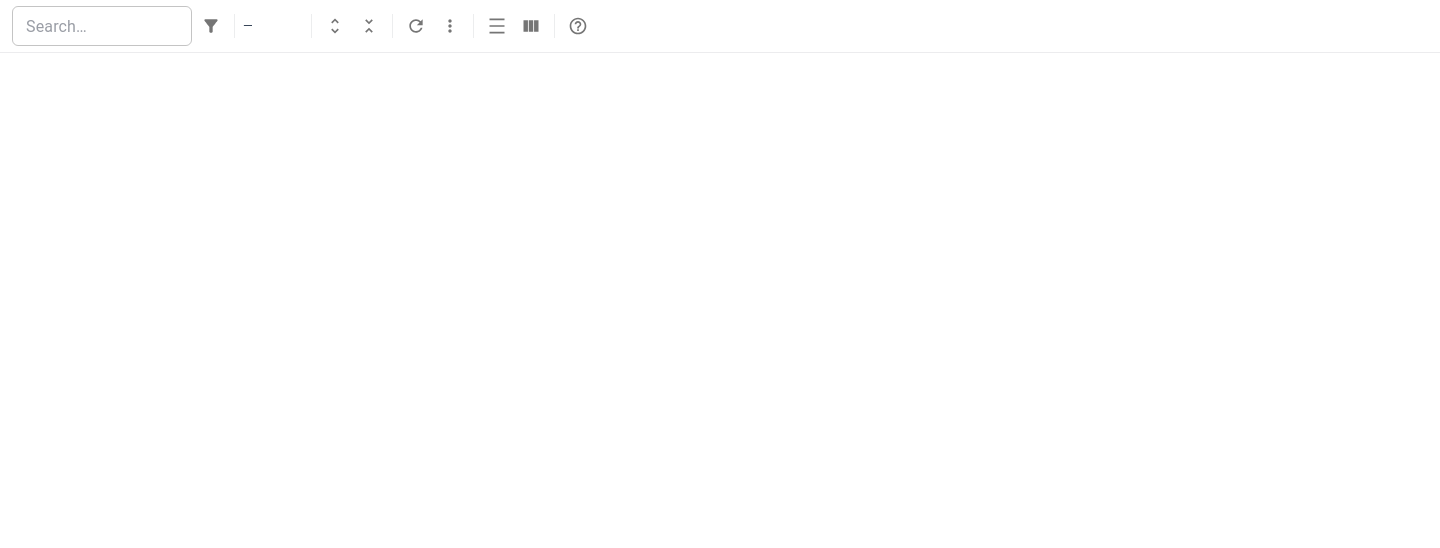
it: HierarchyToolbar — Columns menu (dynamic query columns) › passes current hierarchy facets into the legend
Click the button named "legend".
click(578, 26)  # box [563, 11, 593, 41]
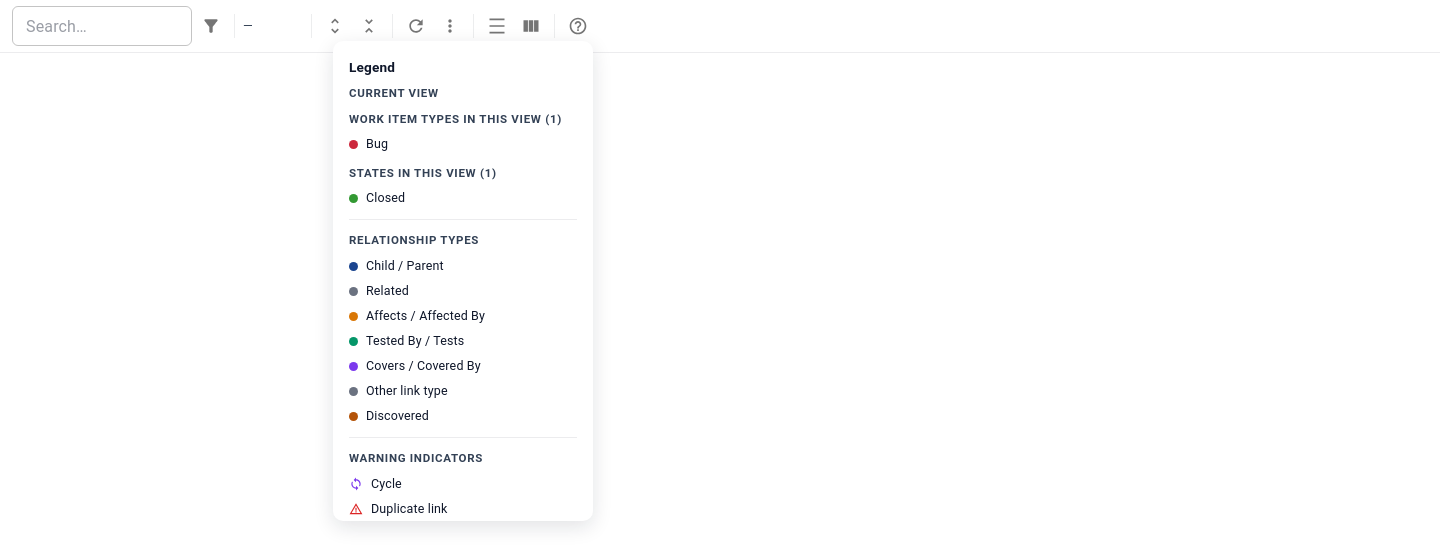
Now the text "Work item types in this view (1)" is shown, box [349, 111, 577, 128]
Now the text "States in this view (1)" is shown, box [349, 166, 497, 180]
Now the text "Bug" is shown, box [366, 135, 388, 154]
